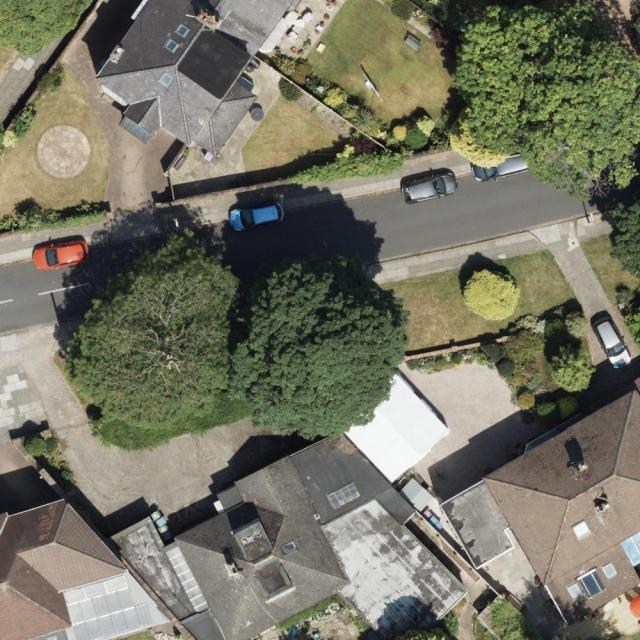roof: (0, 427, 472, 640), (441, 381, 640, 628), (93, 0, 293, 159)
skylight: (164, 544, 213, 615), (576, 567, 608, 600), (327, 482, 362, 510), (621, 533, 640, 567), (570, 519, 592, 540), (565, 580, 584, 601), (602, 559, 620, 579), (280, 539, 298, 556), (159, 70, 173, 87), (166, 38, 180, 53), (175, 24, 190, 37)
